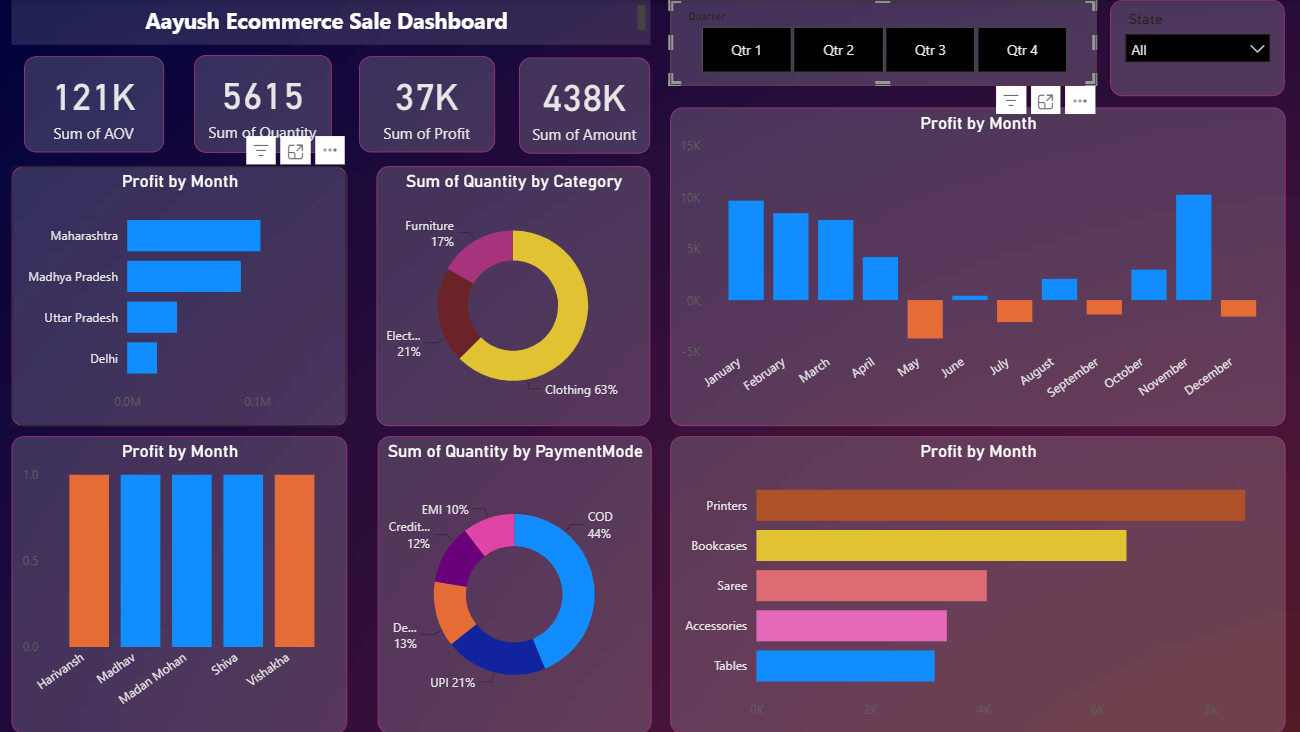

This screenshot's page, from the dashboard's own definition file:
{"tool":"powerbi","page":{"name":"Page 1","canvas":[1280,720],"ordinal":0},"visuals":[{"type":"textbox","box":[12.3,0,627.1,43.9],"z":0},{"type":"columnChart","title":"Profit by Month","fields":{"Category":["Orders csv.Order Date.Variation.Date Hierarchy.Month"],"Y":["Sum(Details csv.Profit)"]},"box":[658.9,105.5,603.7,312.9],"z":1000},{"type":"barChart","title":"Profit by Month","fields":{"Y":["Sum(Details csv.Profit)"],"Category":["Details csv.Sub-Category"]},"box":[658.9,428.2,603.7,292],"z":2000},{"type":"donutChart","fields":{"Y":["Sum(Details csv.Quantity)"],"Category":["Details csv.PaymentMode"]},"box":[371.8,428.2,268.7,292],"z":3000},{"type":"donutChart","fields":{"Y":["Sum(Details csv.Quantity)"],"Category":["Details csv.Category"]},"box":[370.6,163.2,268.7,255.2],"z":4000},{"type":"card","fields":{"Values":["Sum(Details csv.Profit)"]},"box":[353.4,55.2,133.7,94.5],"z":5000},{"type":"card","fields":{"Values":["Sum(Details csv.Amount)"]},"box":[510.4,56.4,128.8,94.5],"z":6000},{"type":"card","fields":{"Values":["Sum(Details csv.Quantity)"]},"box":[191.4,54,135,95.7],"z":7000},{"type":"card","fields":{"Values":["Sum(Details csv.AOV)"]},"box":[24.5,55.2,137.4,94.5],"z":8000},{"type":"barChart","title":"Profit by Month","fields":{"Category":["Orders csv.State"],"Y":["Sum(Details csv.Amount)"]},"box":[12.3,163.3,329.3,255.2],"z":9000},{"type":"columnChart","title":"Profit by Month","fields":{"Category":["Orders csv.CustomerName"],"Y":["Sum(Details csv.Amount)"]},"box":[12.3,428.1,329.3,292.3],"z":10000},{"type":"slicer","fields":{"Values":["Orders csv.Order Date.Variation.Date Hierarchy.Quarter"]},"box":[658.7,0,418.5,83.7],"z":11000},{"type":"slicer","fields":{"Values":["Orders csv.State"]},"box":[1090.9,0,171.5,94.7],"z":12001}]}

Visuals, with their boxes in screenshot pixels (x1, y1, x2, y2), scaled from the page's 1280x720 canvas onto the 1300x732 screenshot:
textbox: [left=12, top=0, right=649, bottom=45]
"Profit by Month" columnChart: [left=669, top=107, right=1282, bottom=425]
"Profit by Month" barChart: [left=669, top=435, right=1282, bottom=731]
donutChart - Sum(Details csv.Quantity) x Details csv.PaymentMode: [left=378, top=435, right=651, bottom=731]
donutChart - Sum(Details csv.Quantity) x Details csv.Category: [left=376, top=166, right=649, bottom=425]
card - Sum(Details csv.Profit): [left=359, top=56, right=495, bottom=152]
card - Sum(Details csv.Amount): [left=518, top=57, right=649, bottom=153]
card - Sum(Details csv.Quantity): [left=194, top=55, right=332, bottom=152]
card - Sum(Details csv.AOV): [left=25, top=56, right=164, bottom=152]
"Profit by Month" barChart: [left=12, top=166, right=347, bottom=425]
"Profit by Month" columnChart: [left=12, top=435, right=347, bottom=731]
slicer - Orders csv.Order Date.Variation.Date Hierarchy.Quarter: [left=669, top=0, right=1094, bottom=85]
slicer - Orders csv.State: [left=1108, top=0, right=1282, bottom=96]
